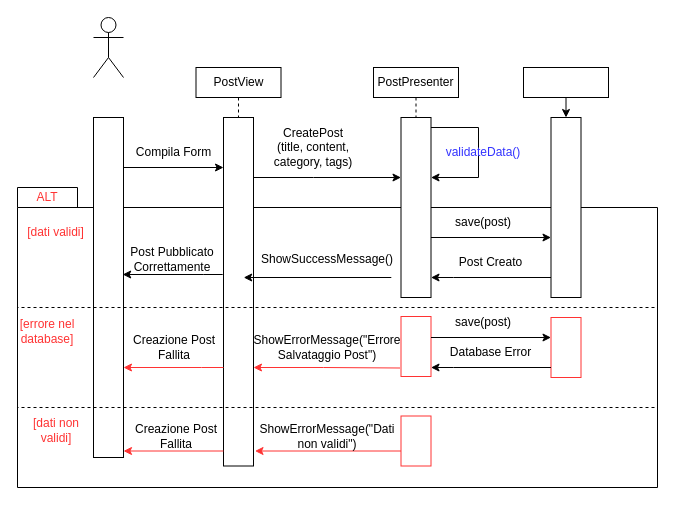
This 676x505 diagram has some shape labels left out. Each missing label, with the centre of its shape:
"PostRepository" goes at (565,82).
"RegistredUser" goes at (108,47).
